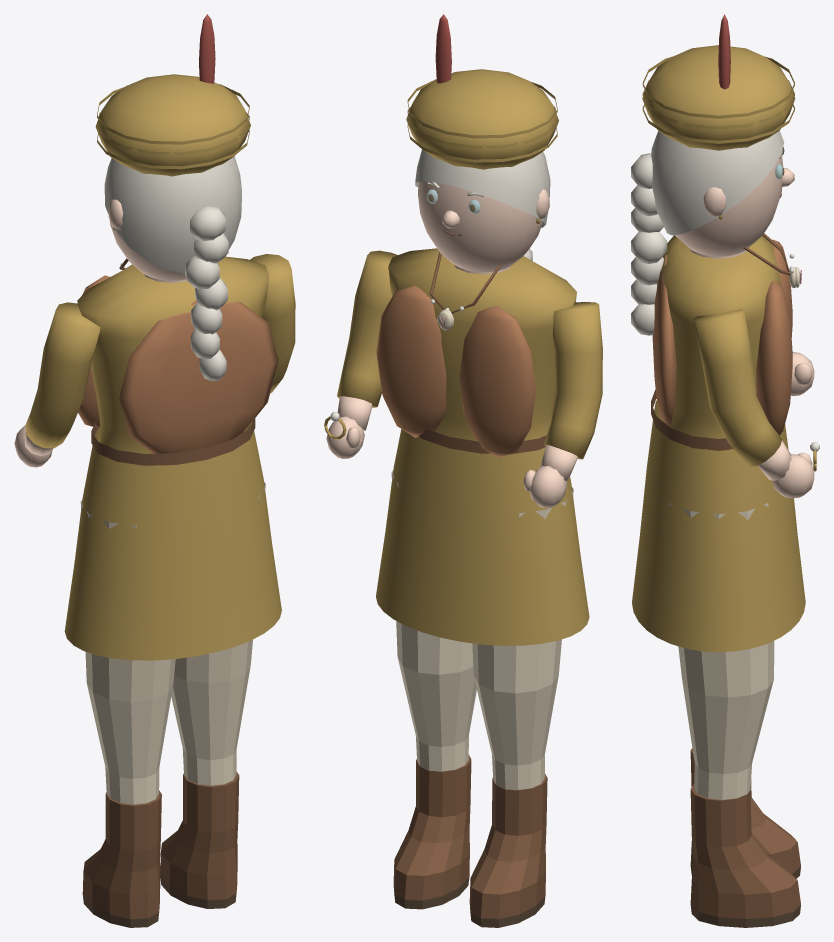
The model's file is SM_NPC_PERLA.glb.
3 renders of one model, left to right at view 1: azimuth 30°, elevation 25°; view 2: azimuth 150°, elevation 25°; view 3: azimuth 270°, elevation 25°, orthographic. The views are drawn at different scales.
Visible parts, largest first — view 1: SM_NPC_PERLA_BODY, SM_NPC_PERLA_HAIR, SM_NPC_PERLA_LEG_L, SM_NPC_PERLA_LEG_R, SM_NPC_PERLA_ARM_L, SM_NPC_PERLA_ARM_R, SM_NPC_PERLA_HEAD; view 2: SM_NPC_PERLA_BODY, SM_NPC_PERLA_LEG_L, SM_NPC_PERLA_LEG_R, SM_NPC_PERLA_HAIR, SM_NPC_PERLA_ARM_L, SM_NPC_PERLA_HEAD, SM_NPC_PERLA_ARM_R; view 3: SM_NPC_PERLA_BODY, SM_NPC_PERLA_HAIR, SM_NPC_PERLA_LEG_R, SM_NPC_PERLA_ARM_R, SM_NPC_PERLA_HEAD, SM_NPC_PERLA_LEG_L, SM_NPC_PERLA_ARM_L.
Part boxes in pixels (x1,y1,x2,y2): SM_NPC_PERLA_BODY: (64, 256, 281, 660); SM_NPC_PERLA_HAIR: (95, 14, 250, 380); SM_NPC_PERLA_LEG_L: (80, 499, 175, 927); SM_NPC_PERLA_LEG_R: (160, 482, 265, 908); SM_NPC_PERLA_ARM_L: (14, 302, 100, 467); SM_NPC_PERLA_ARM_R: (250, 254, 295, 393); SM_NPC_PERLA_HEAD: (108, 182, 241, 280); SM_NPC_PERLA_BODY: (376, 248, 589, 645); SM_NPC_PERLA_LEG_L: (469, 487, 573, 927); SM_NPC_PERLA_LEG_R: (391, 470, 476, 909); SM_NPC_PERLA_HAIR: (406, 14, 558, 260); SM_NPC_PERLA_ARM_L: (523, 302, 602, 508); SM_NPC_PERLA_HEAD: (418, 181, 549, 272); SM_NPC_PERLA_ARM_R: (324, 250, 397, 458); SM_NPC_PERLA_BODY: (632, 233, 805, 652); SM_NPC_PERLA_HAIR: (631, 14, 795, 335); SM_NPC_PERLA_LEG_R: (669, 503, 800, 927); SM_NPC_PERLA_ARM_R: (693, 309, 819, 498); SM_NPC_PERLA_HEAD: (675, 153, 794, 256); SM_NPC_PERLA_LEG_L: (690, 748, 800, 878); SM_NPC_PERLA_ARM_L: (790, 352, 814, 396).
Bounding box in the file's own units: 0.6008 × 2.01 × 0.3833.
